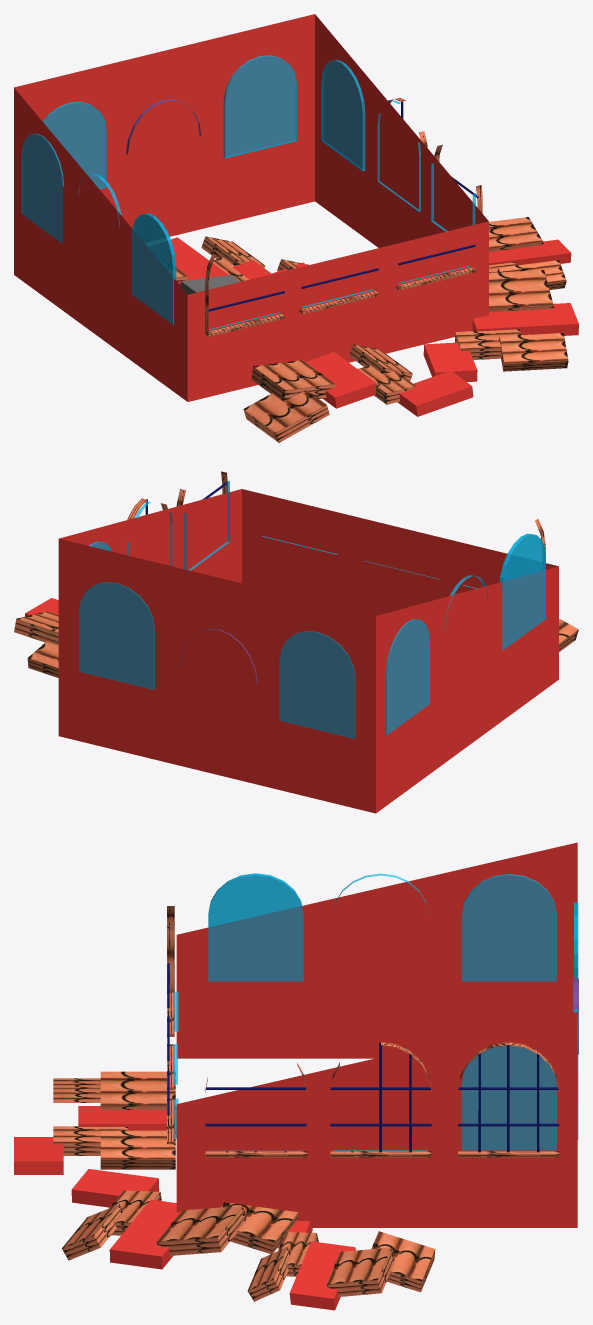
Rendered from EscombrosCasa.fbx.
3 renders of one model, top to bottom at view 1: azimuth 30°, elevation 25°; view 2: azimuth 150°, elevation 25°; view 3: azimuth 270°, elevation 25°, orthographic. The views are drawn at different scales.
Parts seen in each view (by area): view 1: CasaEscombros; view 2: CasaEscombros; view 3: CasaEscombros.
Part boxes in pixels (x1,y1,x2,y2): CasaEscombros: (14, 14, 578, 442); CasaEscombros: (14, 471, 578, 813); CasaEscombros: (14, 842, 578, 1310).
Size of the model in its own units: 201 by 87.69 by 194.
32 materials, 18 textured.
